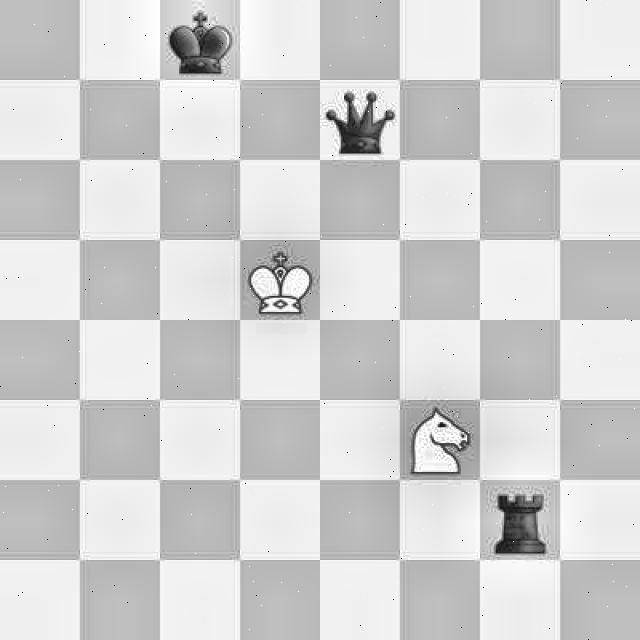black king: (158, 0, 242, 74)
black queen: (320, 75, 404, 165)
black rook: (489, 482, 552, 560)
white king: (242, 244, 320, 318)
whiteknight: (398, 406, 482, 476)
